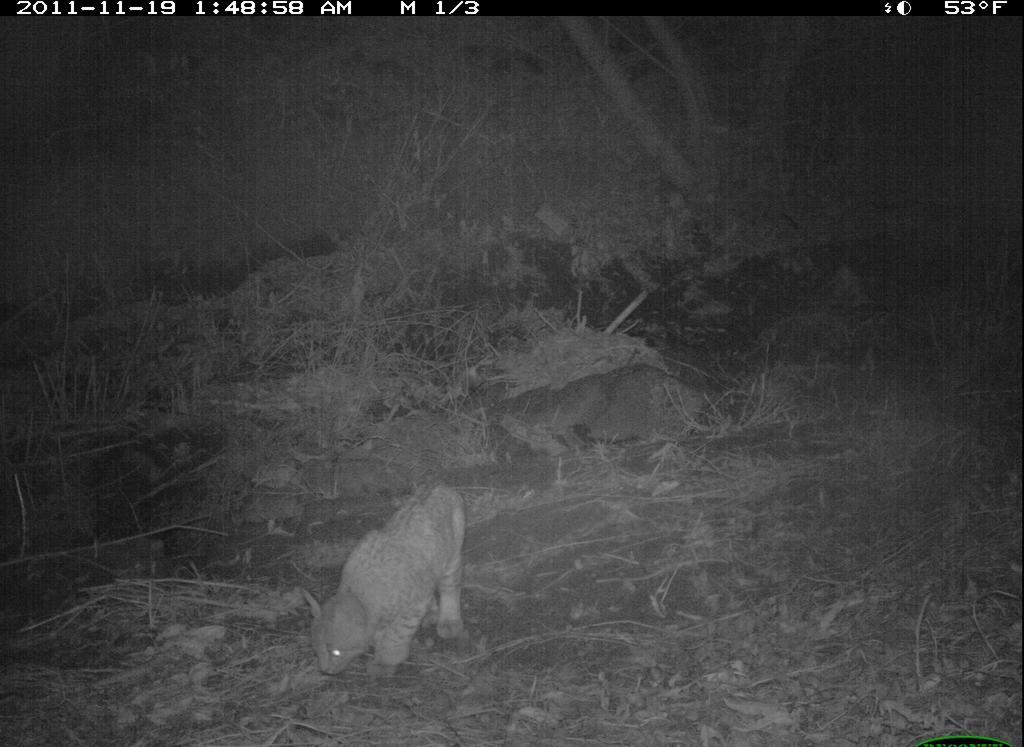bobcat: (296, 473, 474, 689)
